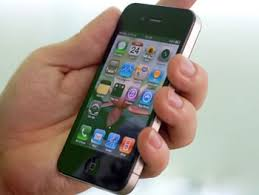iphone: (54, 1, 203, 195)
iphone4: (55, 1, 204, 195)
